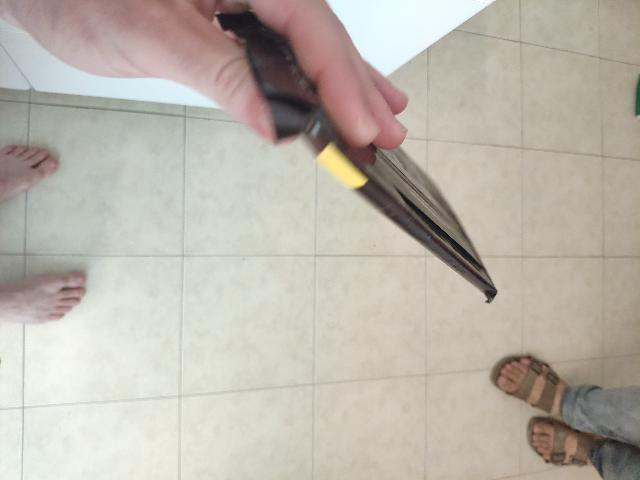chocolate: (167, 123, 460, 424)
